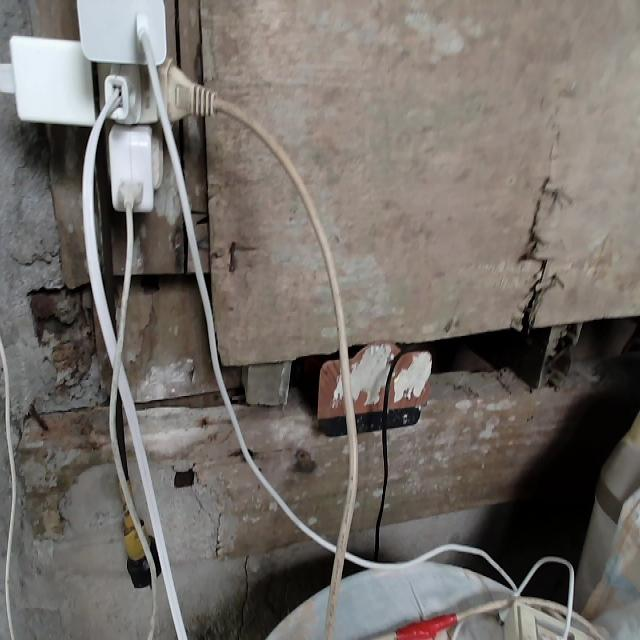-: (0, 0, 259, 228)
